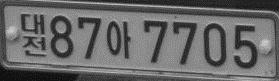0: (203, 21, 227, 66)
5: (233, 24, 258, 68)
7: (143, 19, 168, 63), (172, 20, 197, 64), (77, 16, 102, 58)
8: (49, 14, 73, 57)
대전_V: (20, 13, 46, 56)
아: (106, 20, 131, 58)
